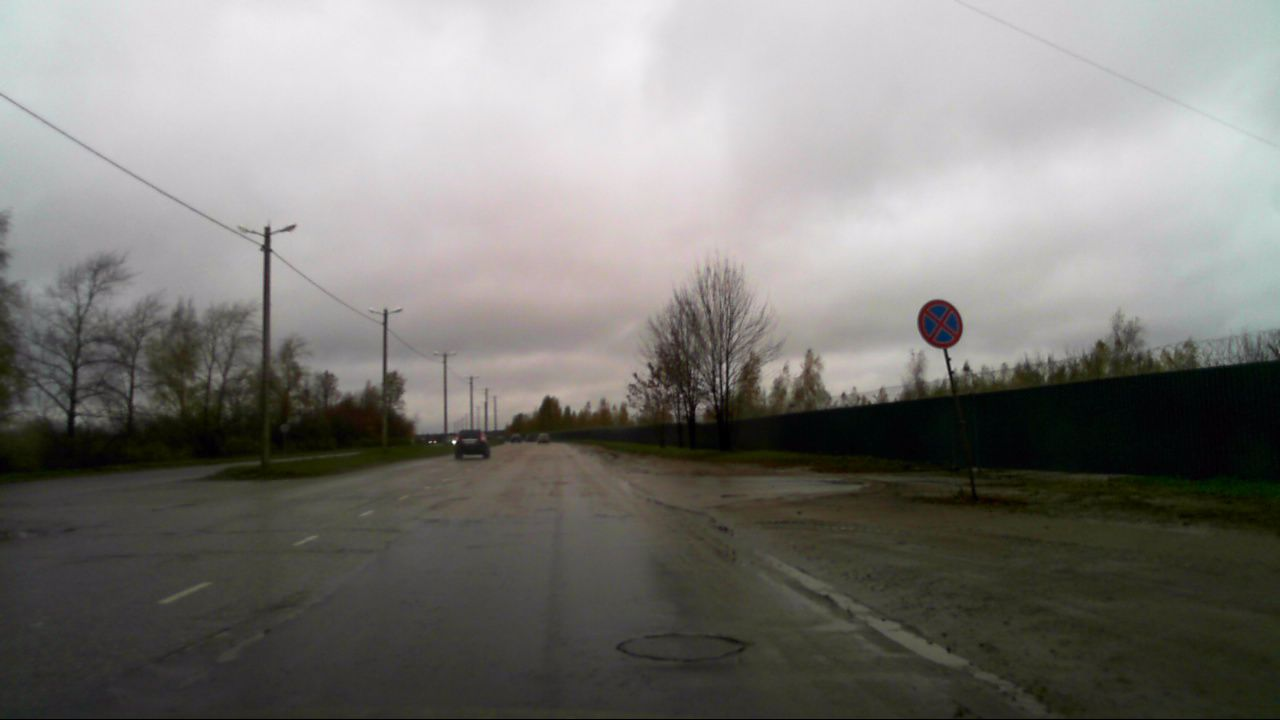No Parking: (915, 297, 963, 348)
